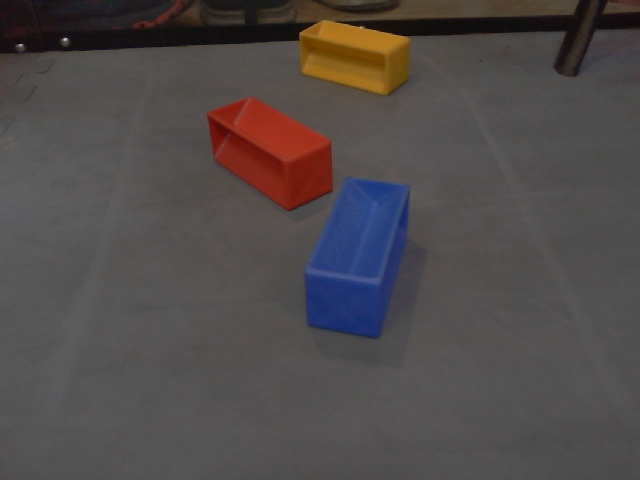BlueSample: (301, 173, 412, 339)
RedSample: (206, 95, 335, 215)
YellowSample: (296, 18, 412, 103)
